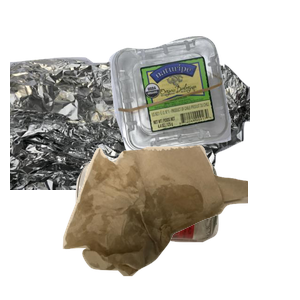glass: (73, 153, 284, 300)
metal: (10, 47, 250, 227)
plastic: (106, 34, 300, 183)
trash: (60, 142, 300, 300)
